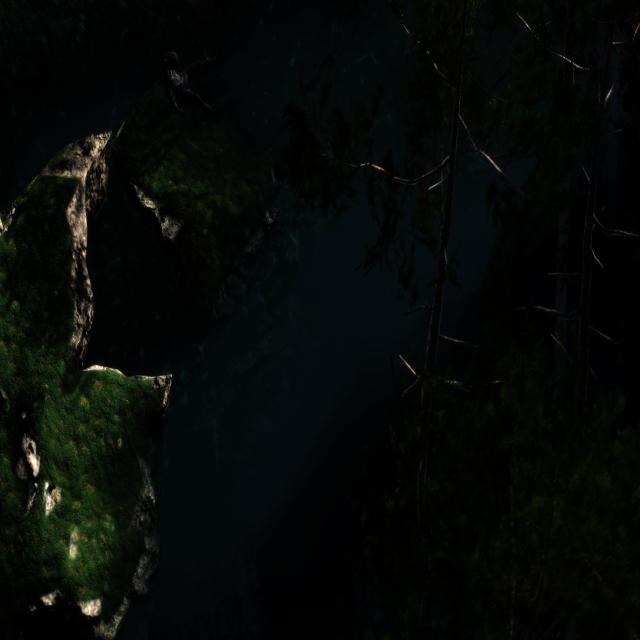Human: (163, 32, 228, 130)
